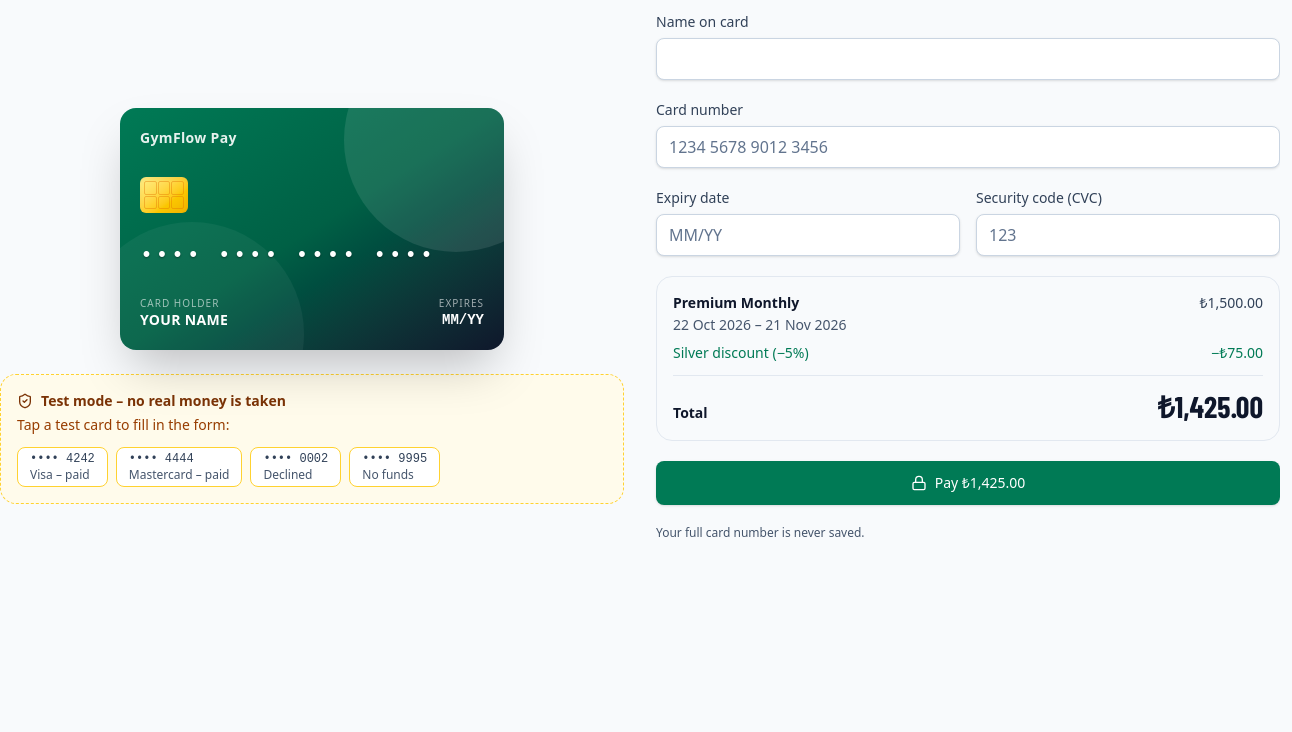
CardCheckout › shows the server’s field errors next to the right input
Click the button "•••• 4242 Visa – paid" at (62, 467), box [17,447,108,487]
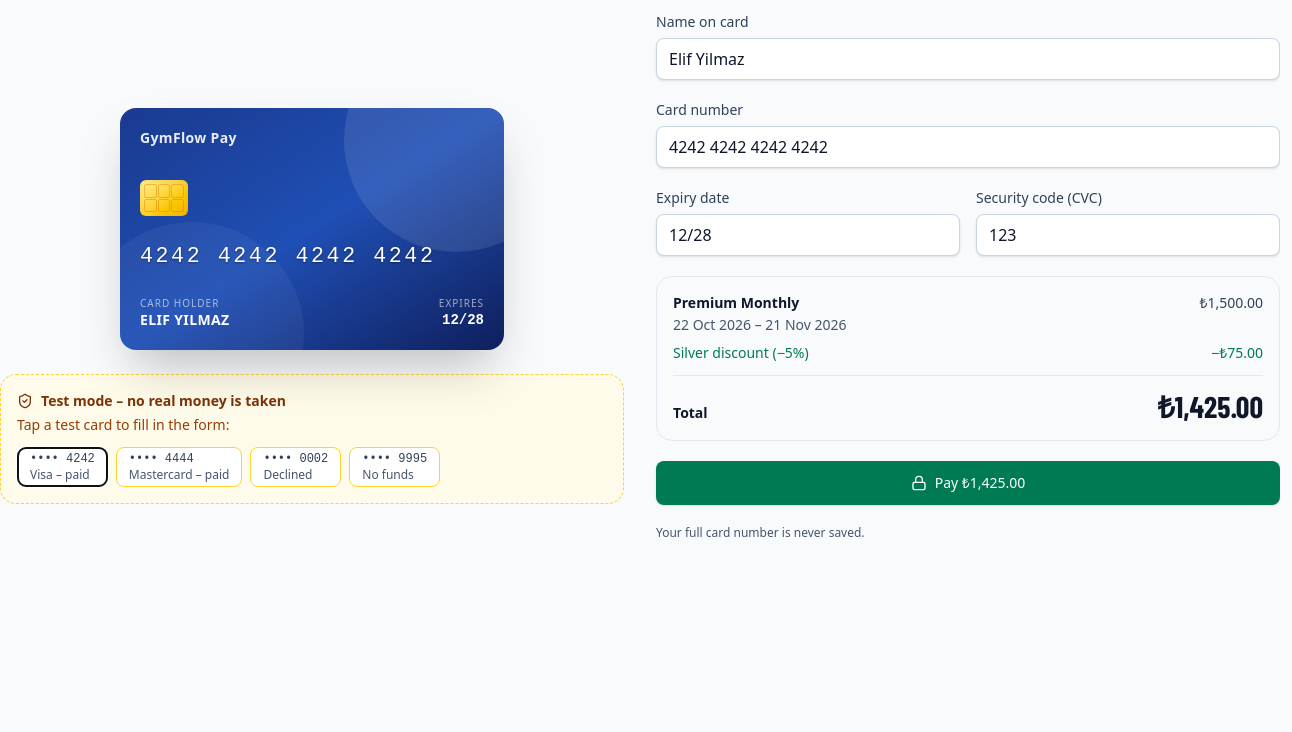
Click the button "Pay ₺1,425.00" at (968, 483), box [656,461,1280,505]
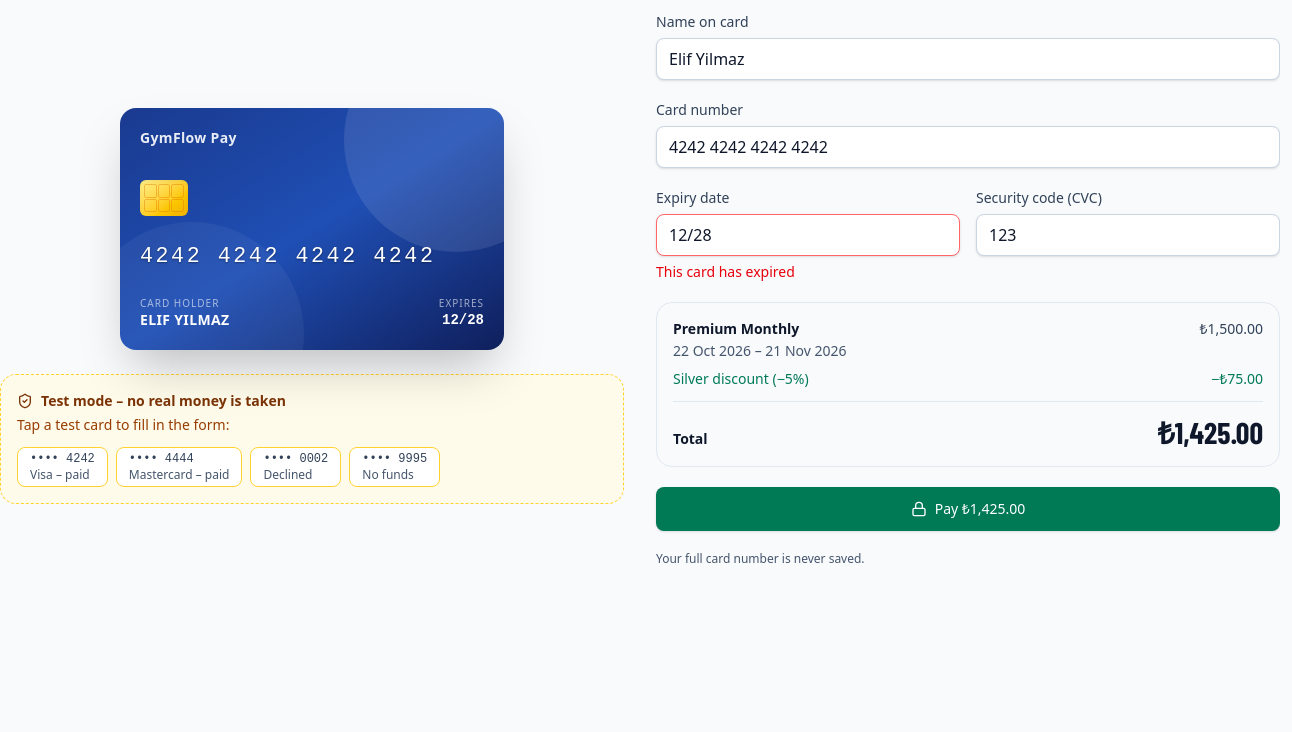
Result: the text "This card has expired" is shown at [656,262,795,281]
